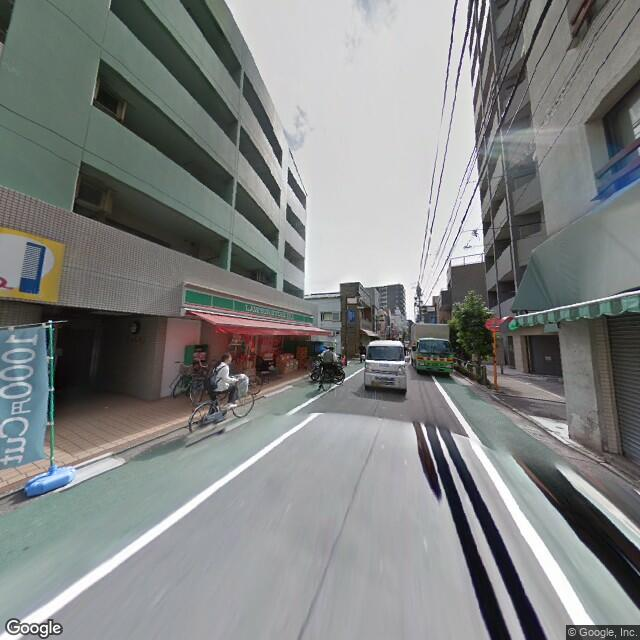lawson: (180, 284, 314, 328)
